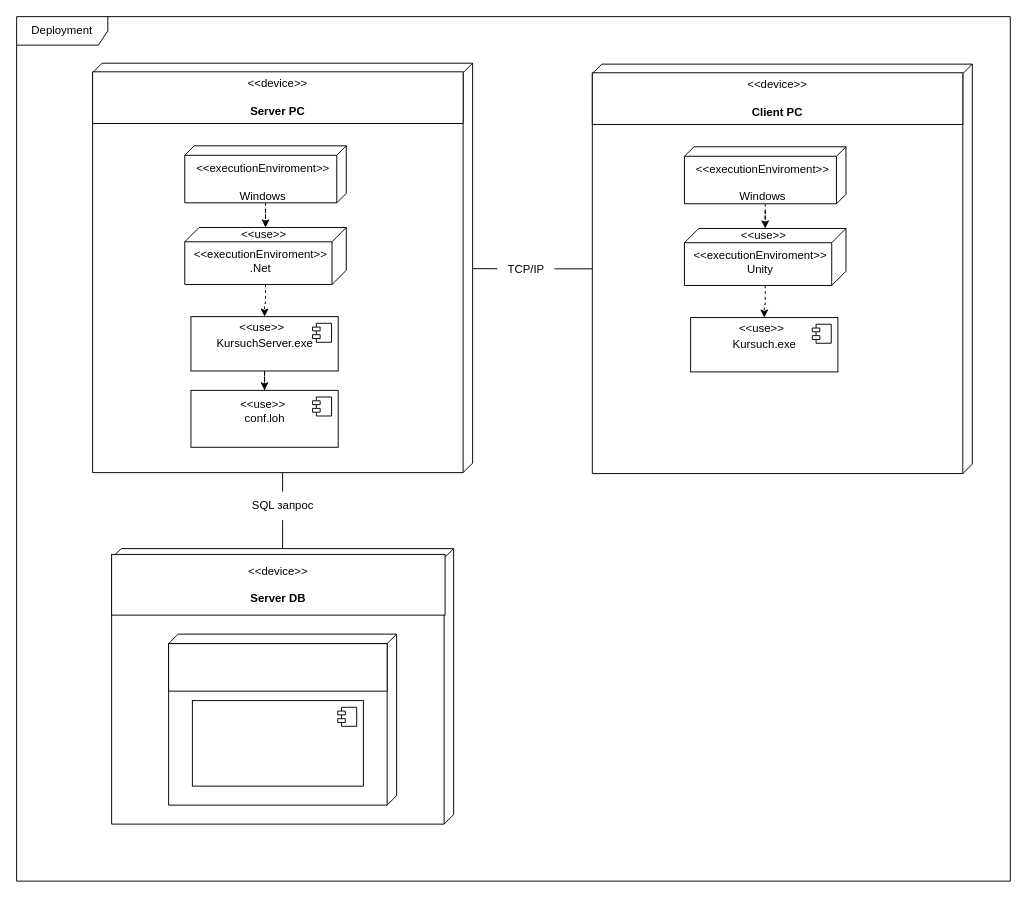
The diagram is 1027 pixels wide and 898 high, and some of its shapes have lost their labels. The shapes that lost their labels are listed below. From the top down, each one's centre as x and y in pixels, then its label:
At (x=277, y=667): "<<executionEnvironment>> Windows".
At (x=277, y=743): "PostgreSQL Server".
